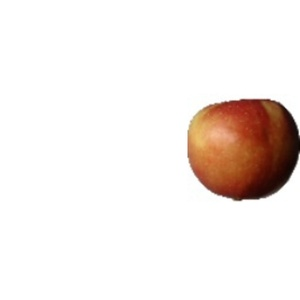maçã braeburn: (183, 97, 298, 206)
